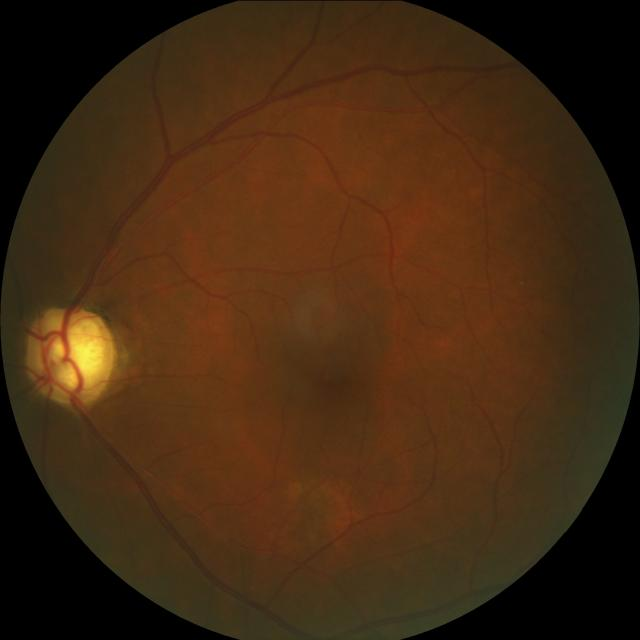OC: (44, 318, 107, 390)
OD: (23, 302, 115, 406)
